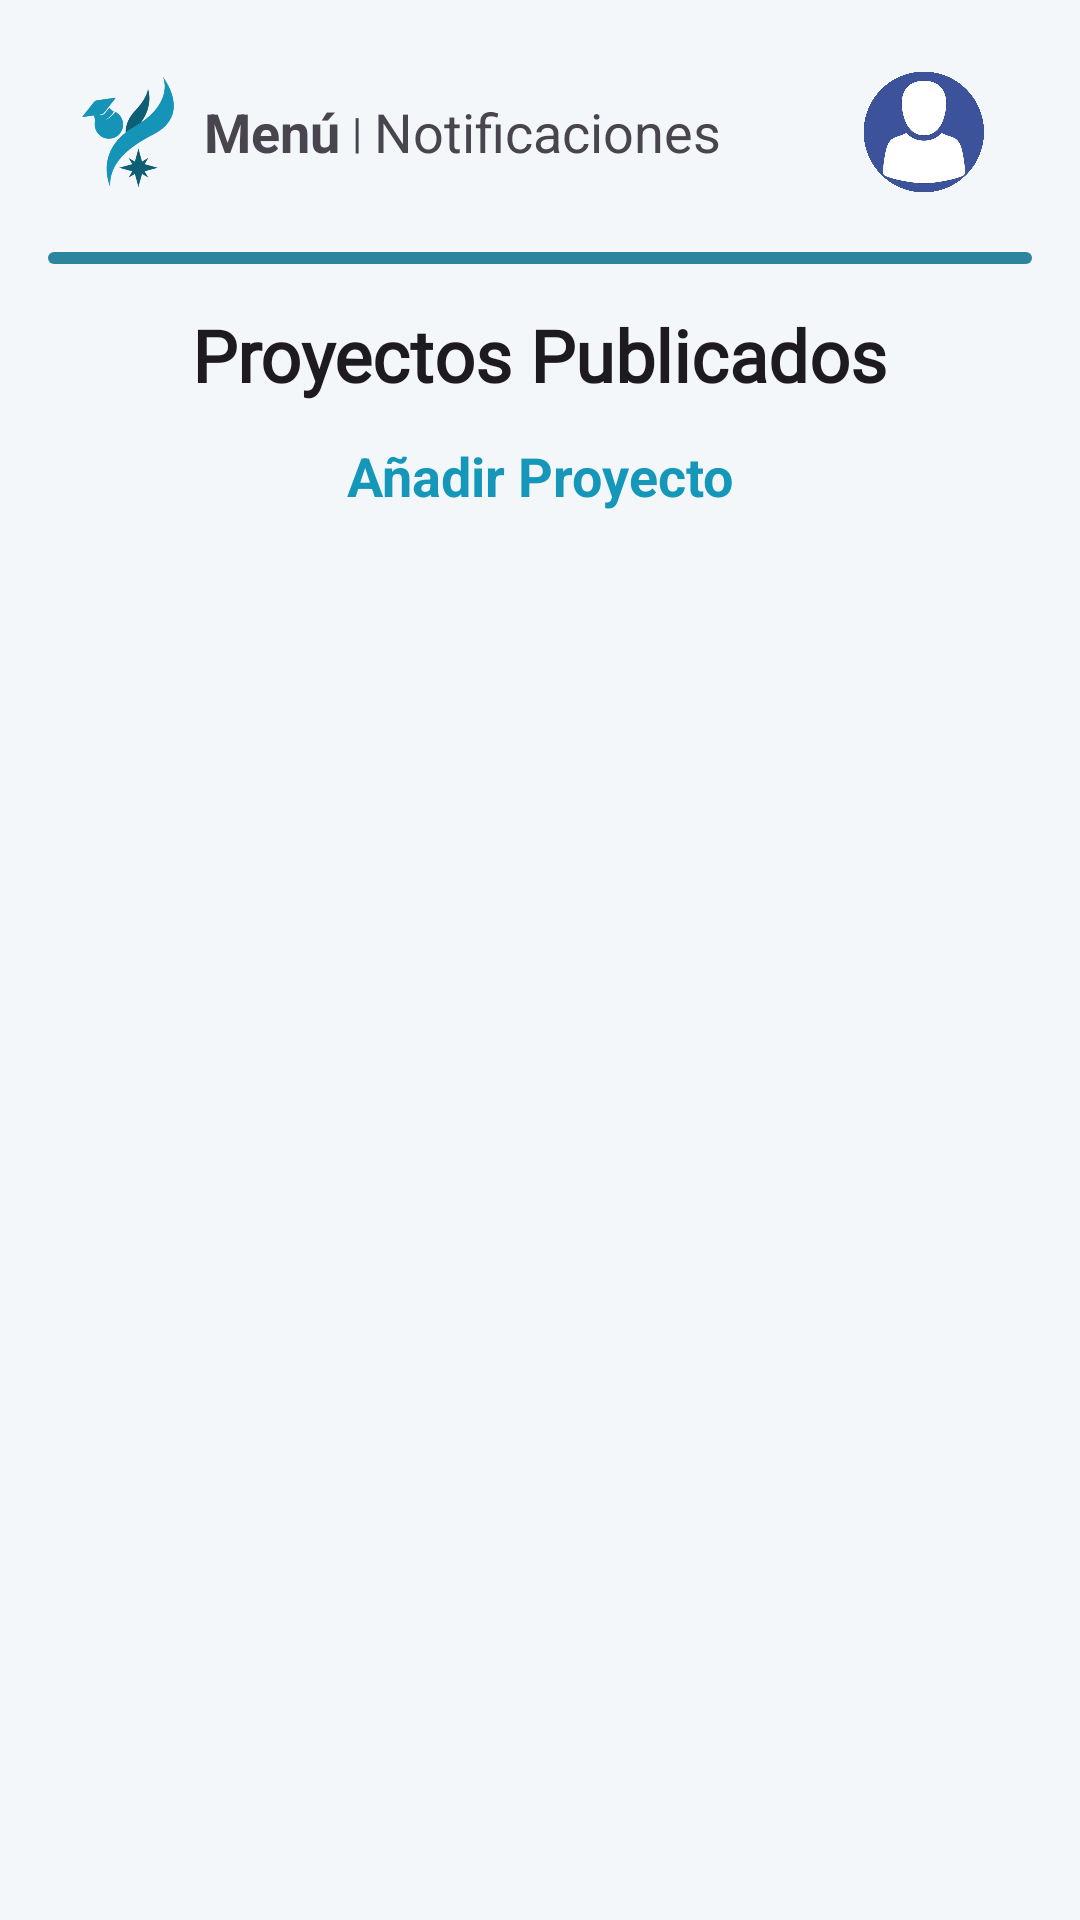

Screen size 1080w x 1920h. Icon name, then its center in pixels as (x=x, y=y):
Perfil: (x=924, y=132)
